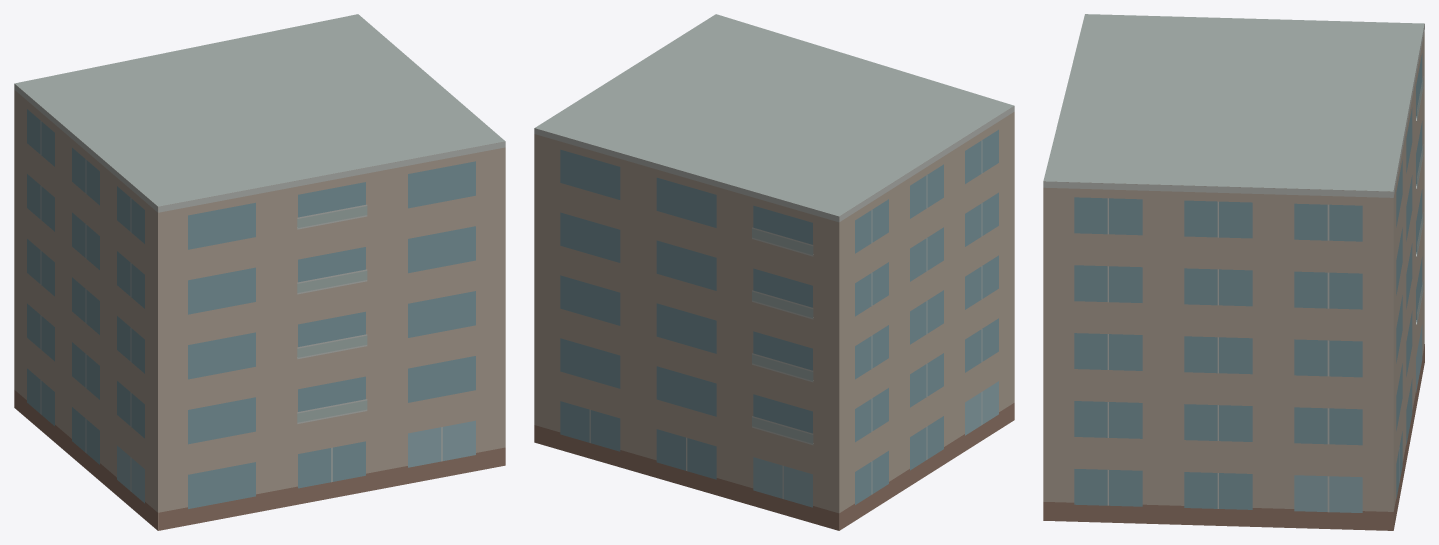
File: survey-upis-32765334.glb
The picture shows the model from 3 angles, left to right: view 1: azimuth 30°, elevation 25°; view 2: azimuth 150°, elevation 25°; view 3: azimuth 270°, elevation 25°; orthographic projection. The views are drawn at different scales.
Parts seen in each view (by area): view 1: survey-upis-32765334.tmp; view 2: survey-upis-32765334.tmp; view 3: survey-upis-32765334.tmp.
Part boxes in pixels (x1,y1,x2,y2): survey-upis-32765334.tmp: [14, 14, 505, 530]; survey-upis-32765334.tmp: [534, 14, 1014, 530]; survey-upis-32765334.tmp: [1043, 14, 1424, 530].
Size of the model in its own units: 14.6 by 13 by 13.25.
